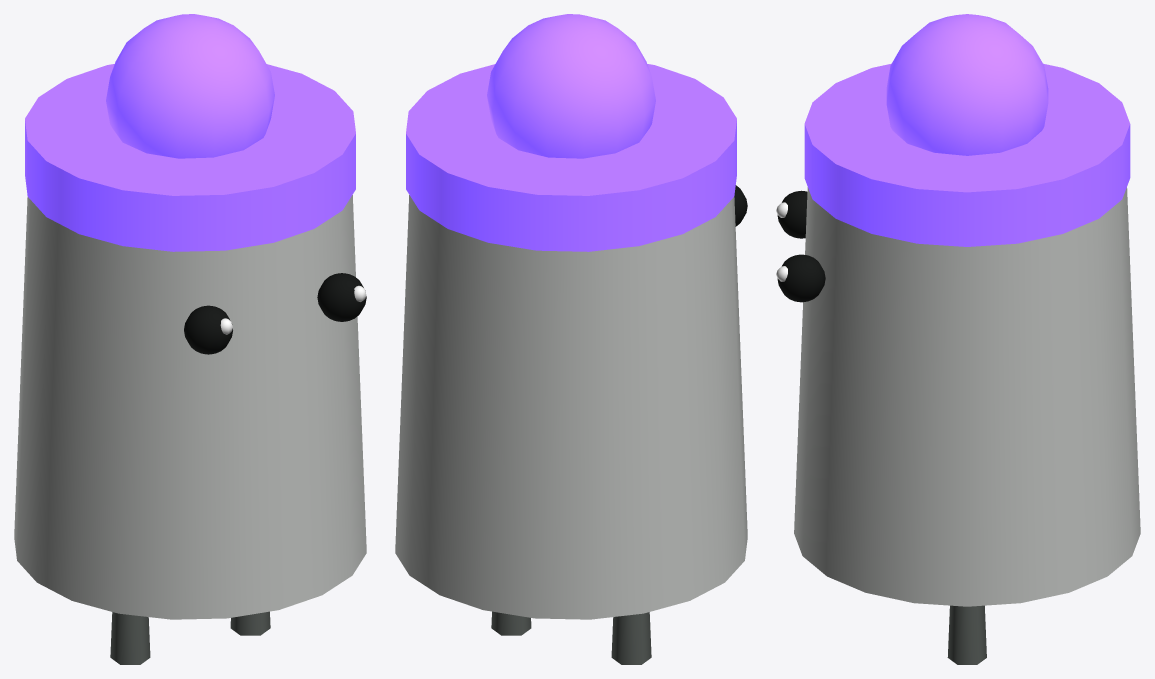
File: capacitor.glb
3 views of the same model, side by side, from view 1: azimuth 30°, elevation 25°; view 2: azimuth 150°, elevation 25°; view 3: azimuth 270°, elevation 25° (orthographic). The views are drawn at different scales.
Size of the model in its own units: 2.3 by 4.45 by 2.42.
